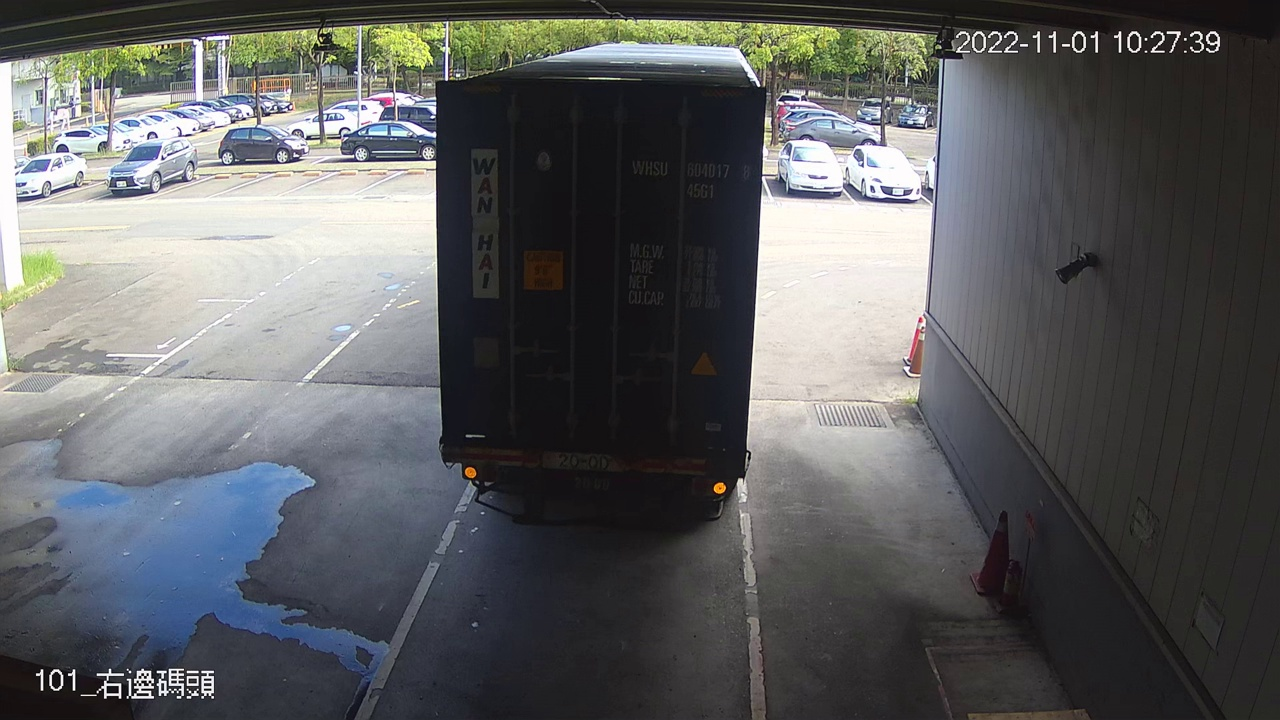container: (625, 149, 754, 207)
